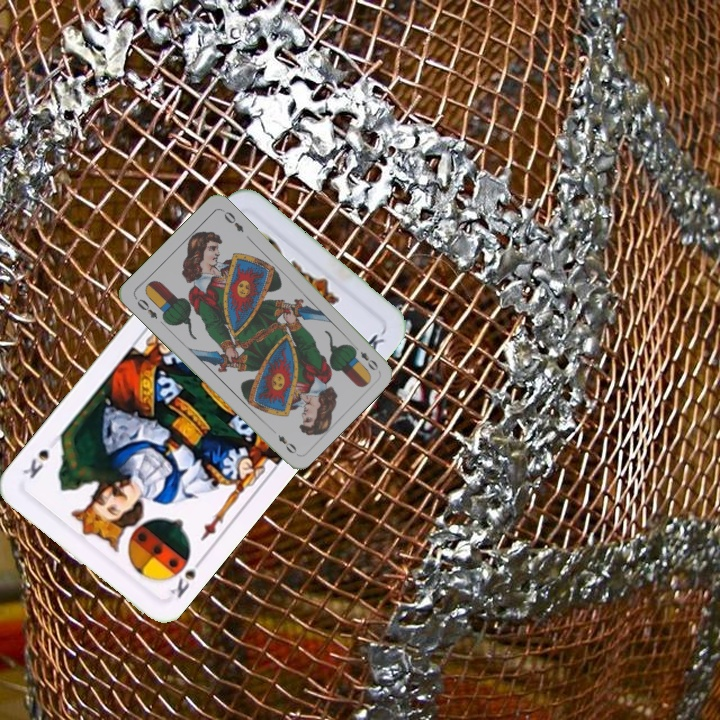EO: (348, 341, 381, 373), (131, 293, 160, 322)
SK: (166, 552, 207, 601)
